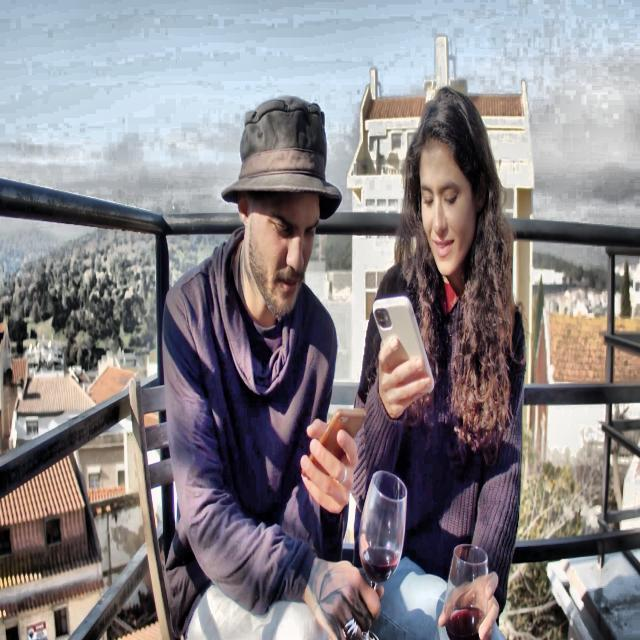Phone: (373, 294, 436, 400)
